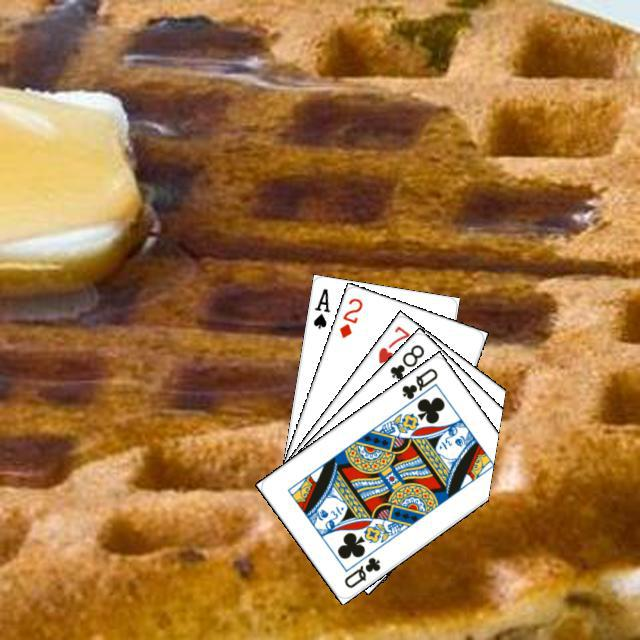2d: (334, 293, 364, 340)
7h: (373, 321, 412, 365)
8c: (385, 339, 426, 381)
As: (308, 283, 332, 330)
Qc: (396, 363, 440, 408), (339, 552, 382, 590)
